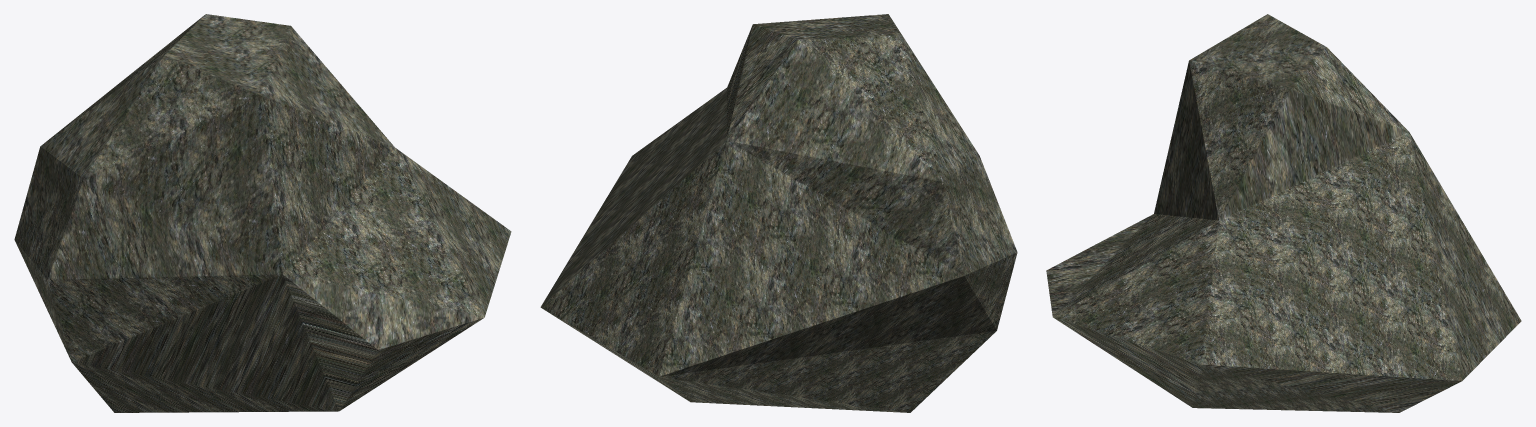
File: mtns_rock_grey_a6_l3.fbx
3 renders of one model, left to right at view 1: azimuth 30°, elevation 25°; view 2: azimuth 150°, elevation 25°; view 3: azimuth 270°, elevation 25°, orthographic. The views are drawn at different scales.
Parts seen in each view (by area): view 1: mesh_node; view 2: mesh_node; view 3: mesh_node.
Boxes of the visible parts, x1=… form: mesh_node: x1=14, y1=14, x2=511, y2=412; mesh_node: x1=540, y1=14, x2=1017, y2=412; mesh_node: x1=1046, y1=14, x2=1521, y2=412.
Bounding box in the file's own units: 5.54 × 4.5 × 5.73.
Materials: 1 (1 with a texture image).
